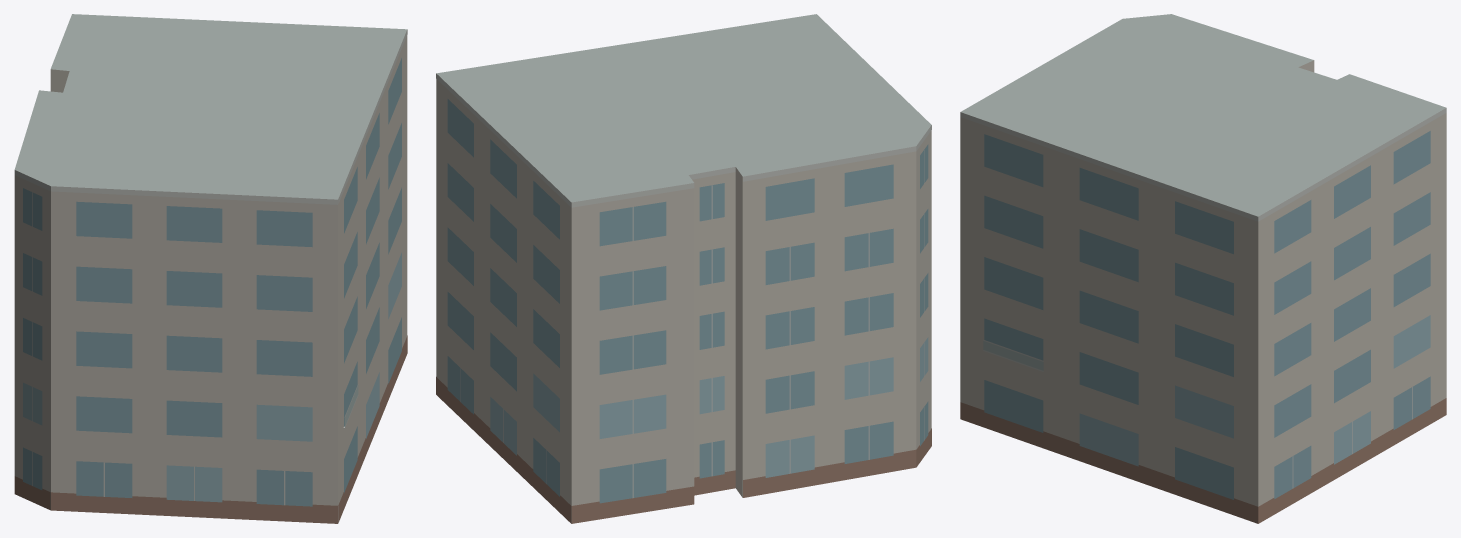
Rendered from survey-upis-32602867.glb.
3 renders of one model, left to right at view 1: azimuth 30°, elevation 25°; view 2: azimuth 150°, elevation 25°; view 3: azimuth 270°, elevation 25°, orthographic. The views are drawn at different scales.
Parts seen in each view (by area): view 1: survey-upis-32602867.tmp; view 2: survey-upis-32602867.tmp; view 3: survey-upis-32602867.tmp.
Boxes of the visible parts, bbox=[...] form: survey-upis-32602867.tmp: bbox=[14, 14, 407, 523]; survey-upis-32602867.tmp: bbox=[436, 14, 931, 523]; survey-upis-32602867.tmp: bbox=[960, 14, 1446, 523].
Bounding box in the file's own units: 21.38 × 15.1 × 21.68.
